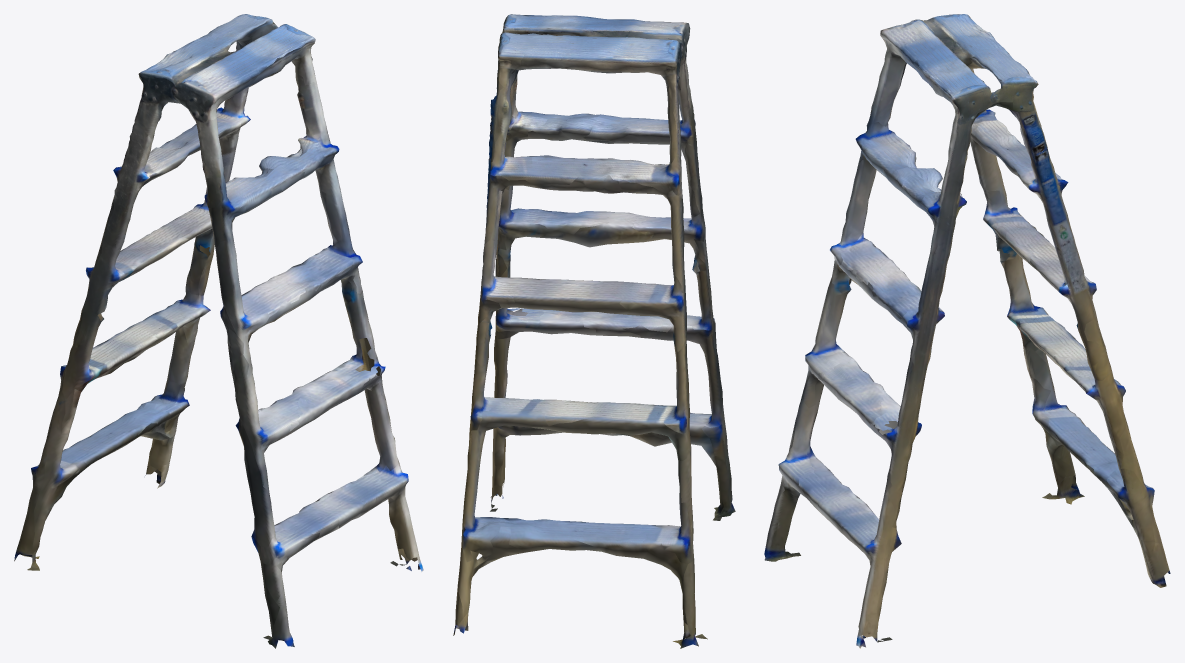
File: Stairs.obj
The picture shows the model from 3 angles, left to right: view 1: azimuth 30°, elevation 25°; view 2: azimuth 150°, elevation 25°; view 3: azimuth 270°, elevation 25°; orthographic projection. The views are drawn at different scales.
Visible parts, largest first — view 1: Object; view 2: Object; view 3: Object.
Part boxes in pixels (x1,y1,x2,y2): Object: (14, 14, 423, 648); Object: (453, 14, 735, 648); Object: (764, 14, 1170, 648).
Bounding box in the file's own units: 0.7299 × 1.19 × 0.8314.
